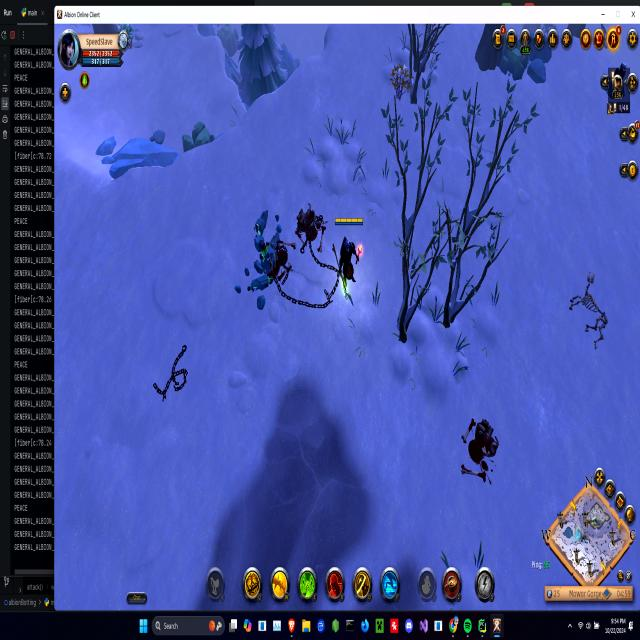hide: (388, 61, 412, 96)
player: (233, 206, 288, 316)
red: (327, 211, 370, 309)
tree: (180, 112, 217, 155)
